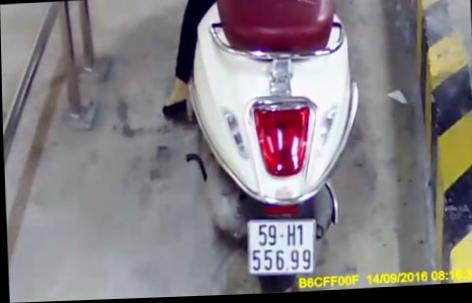LP: (246, 217, 314, 277)
